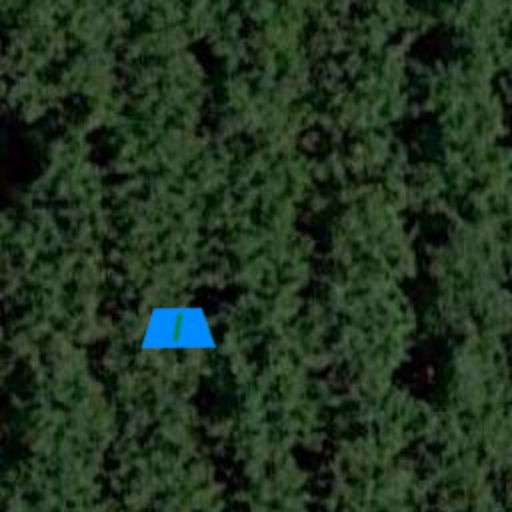trapezoid: (140, 290, 216, 366)
